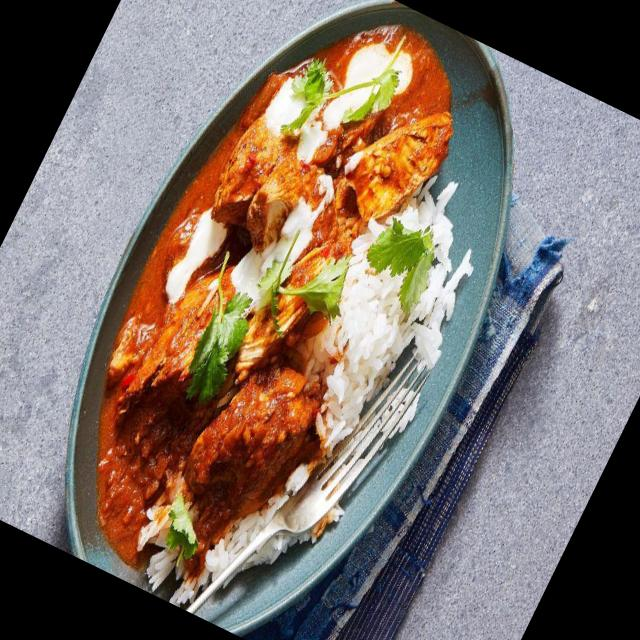chicken: (21, 6, 444, 600)
rice: (290, 174, 490, 453)
